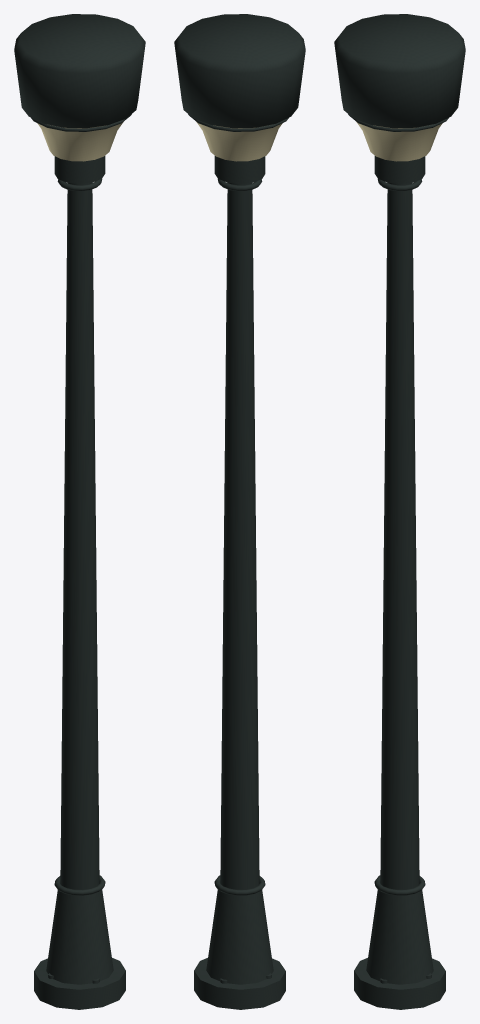
Rendered from path-lamp-modern-crafted.glb.
The picture shows the model from 3 angles, left to right: view 1: azimuth 30°, elevation 25°; view 2: azimuth 150°, elevation 25°; view 3: azimuth 330°, elevation 25°; orthographic projection.
Visible parts, largest first — view 1: path-lamp-modern crafted; view 2: path-lamp-modern crafted; view 3: path-lamp-modern crafted.
Part boxes in pixels (x1=…): path-lamp-modern crafted: x1=14, y1=14, x2=145, y2=1009; path-lamp-modern crafted: x1=174, y1=14, x2=305, y2=1009; path-lamp-modern crafted: x1=334, y1=14, x2=465, y2=1009.
Bounding box in the file's own units: 0.5406 × 4.25 × 0.524.
Materials: 1 (1 with a texture image).
